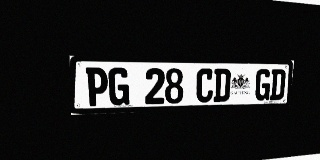2: (145, 68, 165, 104)
8: (165, 68, 184, 104)
C: (196, 68, 214, 103)
D: (213, 69, 231, 102), (269, 69, 286, 100)
G: (108, 68, 129, 106), (254, 69, 271, 101)
P: (86, 67, 108, 106)
